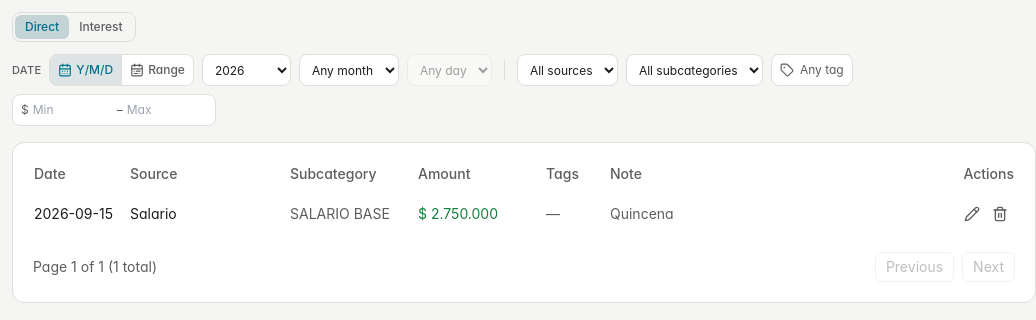
it: IncomeRecords › al pasar a intereses los pide una vez y muestra el periodo y el interes negativo
This screenshot has width=1036, height=320.
Click the button with test id "records-income-interest" at (101, 27), box [69,15,133,39]
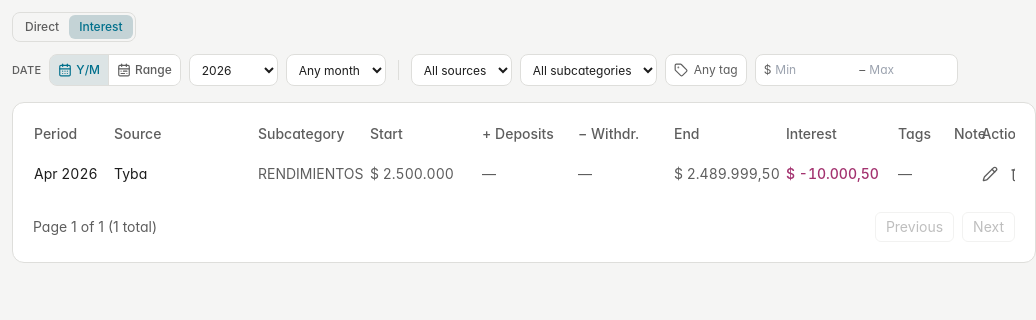
Click the button with test id "records-income-direct" at (42, 27), box [15,15,69,39]
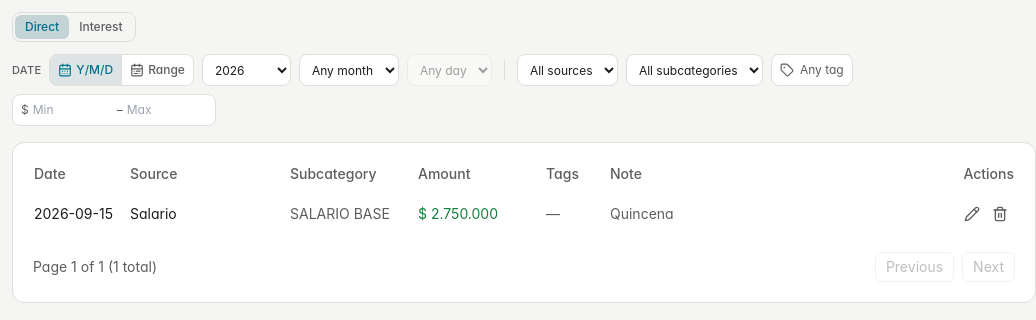
Click the button with test id "records-income-interest" at (101, 27), box [69,15,133,39]
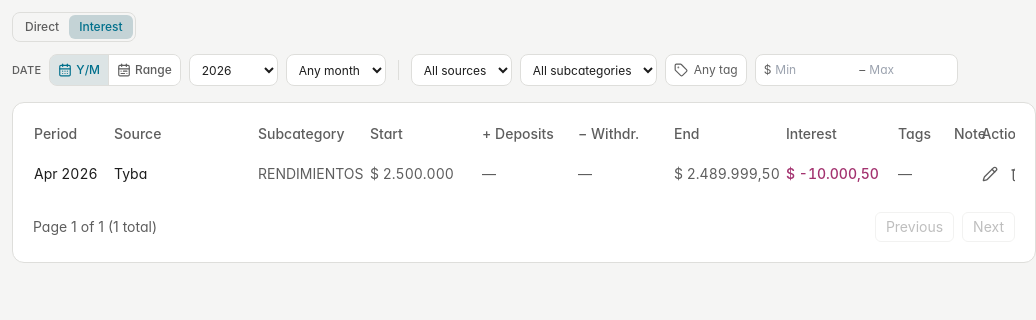
Expected: the text "Apr 2026" is shown, [33,152,113,196]
Expected: the text "$ -10.000,50" is shown, [785,152,897,196]
